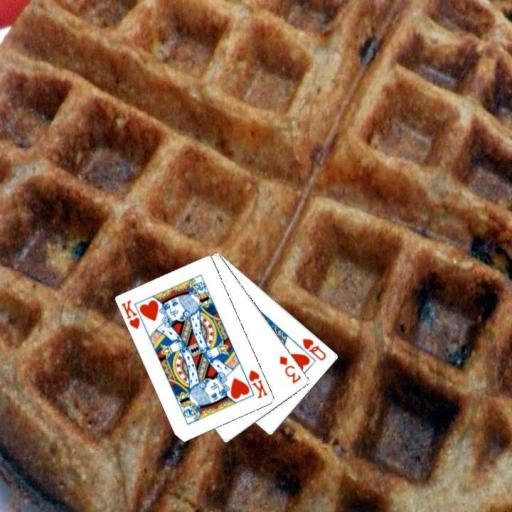3D: (277, 353, 303, 385)
KH: (246, 367, 270, 400), (119, 297, 142, 331)
QH: (299, 335, 328, 362)
